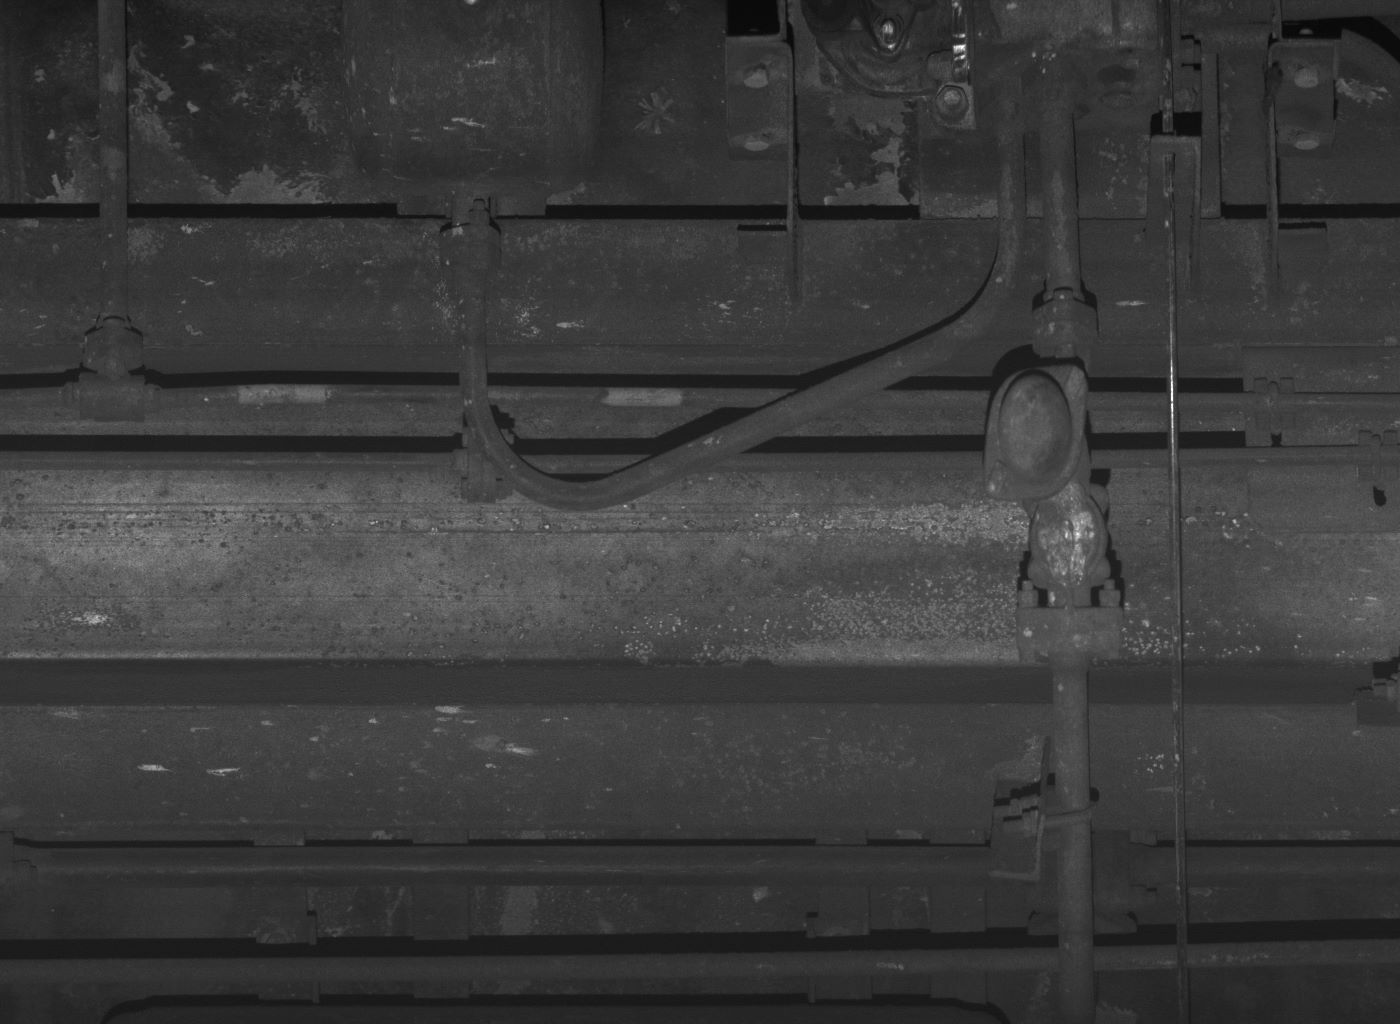normal: (1024, 480, 1116, 589)
